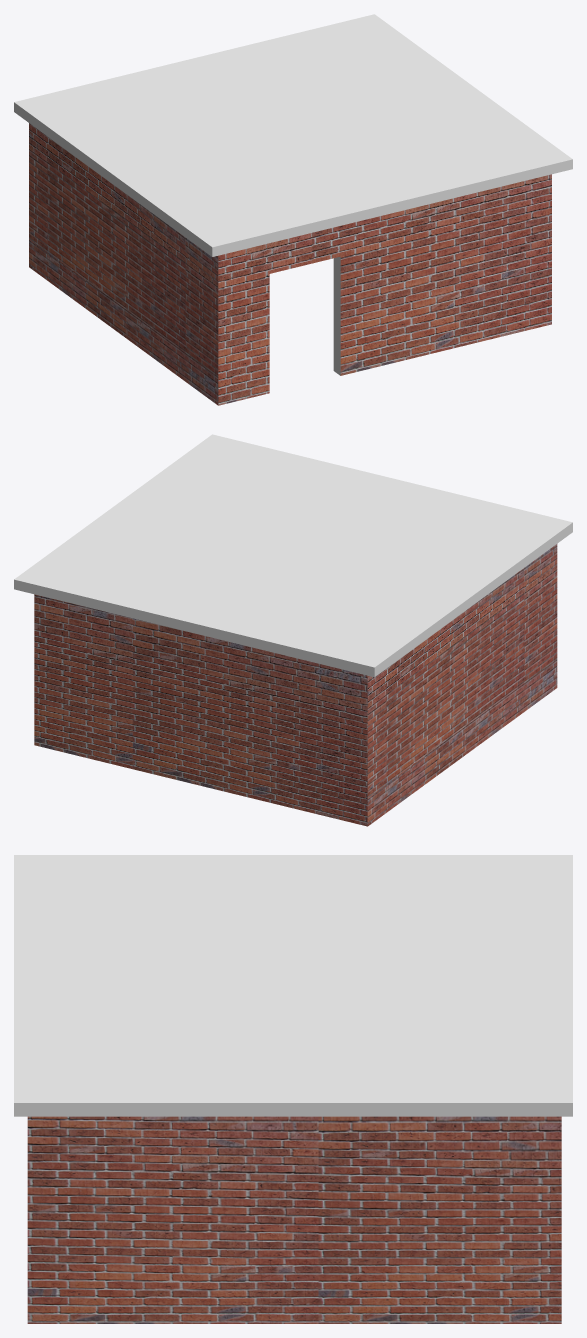
The model's file is House v2.FBX.
3 renders of one model, top to bottom at view 1: azimuth 30°, elevation 25°; view 2: azimuth 150°, elevation 25°; view 3: azimuth 270°, elevation 25°, orthographic. The views are drawn at different scales.
Parts seen in each view (by area): view 1: Shack v1 base; view 2: Shack v1 base; view 3: Shack v1 base.
Part boxes in pixels (x1=…): Shack v1 base: x1=14, y1=14, x2=572, y2=405; Shack v1 base: x1=14, y1=434, x2=572, y2=826; Shack v1 base: x1=14, y1=855, x2=572, y2=1323.
Bounding box in the file's own units: 237 × 103 × 225.
